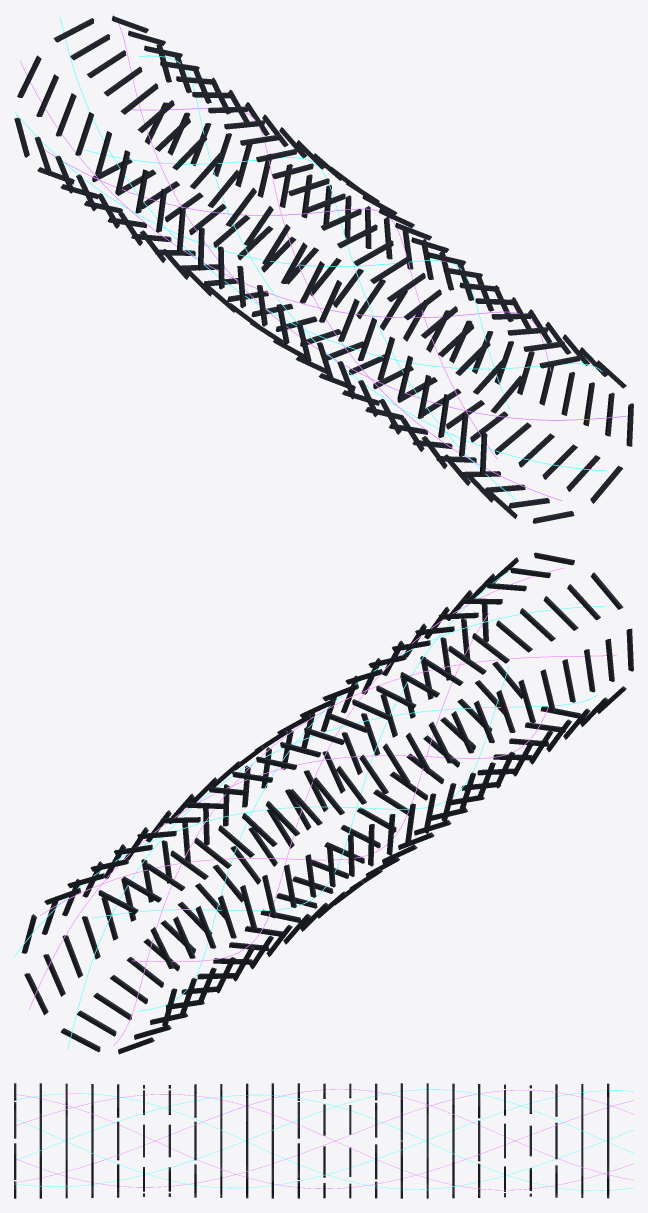
The model's file is Frequency_Vortex.fbx.
3 views of the same model, one above another, from view 1: azimuth 30°, elevation 25°; view 2: azimuth 150°, elevation 25°; view 3: azimuth 270°, elevation 25° (orthographic). The views are drawn at different scales.
Visible parts, largest first — view 1: Vortex_Obsidian_Ribs, Vortex_Violet_Channels, Vortex_Cyan_Channels; view 2: Vortex_Obsidian_Ribs, Vortex_Violet_Channels, Vortex_Cyan_Channels; view 3: Vortex_Obsidian_Ribs, Vortex_Cyan_Channels, Vortex_Violet_Channels.
Boxes of the visible parts, box(x1,y1,x2,y2) form: Vortex_Obsidian_Ribs: box(14, 16, 633, 523); Vortex_Violet_Channels: box(20, 14, 626, 500); Vortex_Cyan_Channels: box(14, 17, 605, 499); Vortex_Obsidian_Ribs: box(21, 552, 633, 1054); Vortex_Violet_Channels: box(29, 568, 616, 1045); Vortex_Cyan_Channels: box(14, 570, 604, 1049); Vortex_Obsidian_Ribs: box(14, 1083, 609, 1198); Vortex_Cyan_Channels: box(15, 1089, 633, 1190); Vortex_Violet_Channels: box(15, 1089, 633, 1190).
Size of the model in its own units: 13.4 by 13.4 by 72.14.
